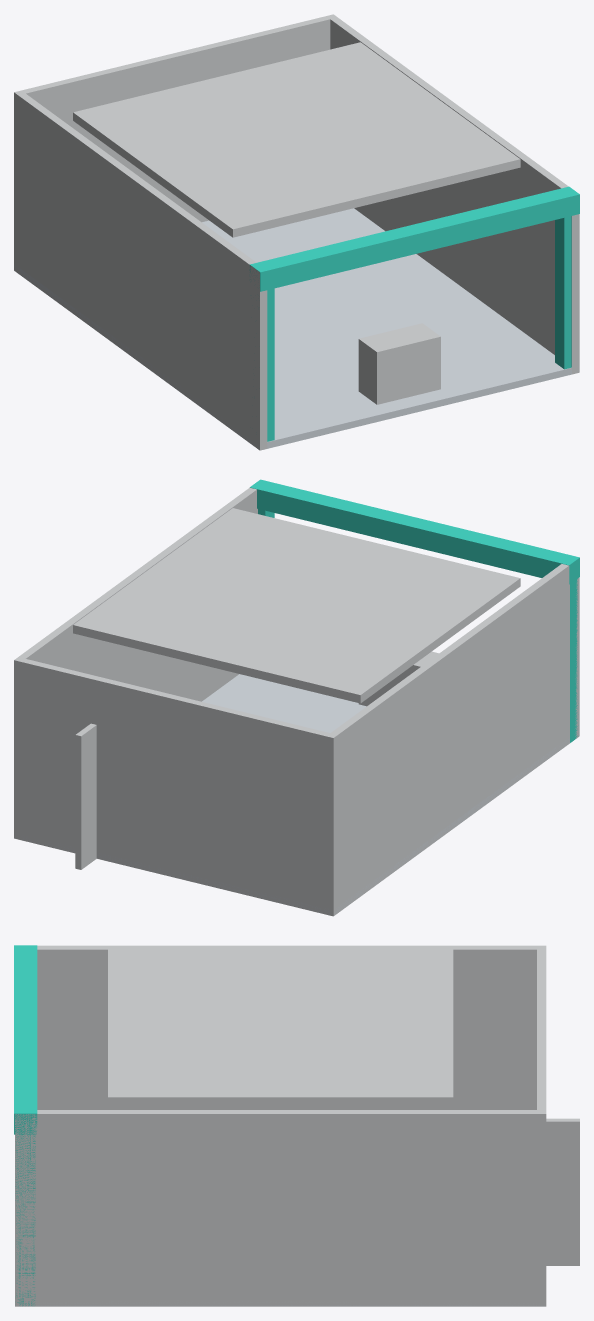
3 renders of one model, top to bottom at view 1: azimuth 30°, elevation 25°; view 2: azimuth 150°, elevation 25°; view 3: azimuth 270°, elevation 25°, orthographic. The views are drawn at different scales.
Visible parts, largest first — view 1: Exhibition Booth Concept; view 2: Exhibition Booth Concept; view 3: Exhibition Booth Concept.
Part boxes in pixels (bbox=[...]): Exhibition Booth Concept: bbox=[14, 14, 579, 450]; Exhibition Booth Concept: bbox=[14, 479, 579, 916]; Exhibition Booth Concept: bbox=[14, 945, 579, 1306].
Size of the model in its own units: 6 by 3.34 by 8.52.
